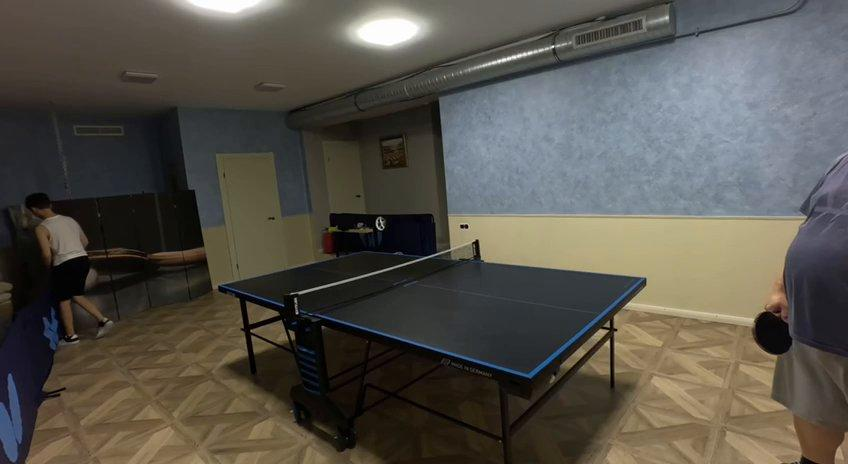Net: (283, 240, 481, 323)
Player1: (25, 192, 112, 342)
Player2: (766, 152, 847, 463)
Table: (220, 254, 645, 372)
